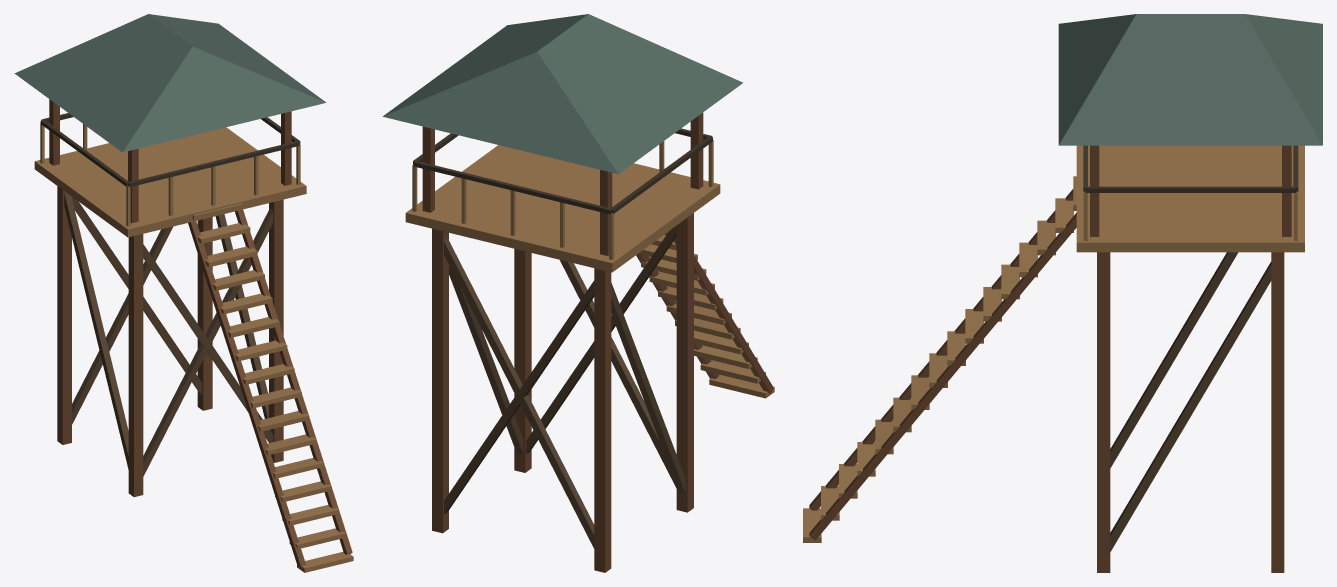
The model's file is Building_Landmark_Watchtower_001_LOD1.glb.
3 views of the same model, side by side, from view 1: azimuth 30°, elevation 25°; view 2: azimuth 150°, elevation 25°; view 3: azimuth 270°, elevation 25° (orthographic). The views are drawn at different scales.
Visible parts, largest first — view 1: Building_Landmark_Watchtower_001_LOD1; view 2: Building_Landmark_Watchtower_001_LOD1; view 3: Building_Landmark_Watchtower_001_LOD1.
Part boxes in pixels (bbox=[...]): Building_Landmark_Watchtower_001_LOD1: bbox=[14, 14, 353, 572]; Building_Landmark_Watchtower_001_LOD1: bbox=[383, 14, 774, 572]; Building_Landmark_Watchtower_001_LOD1: bbox=[803, 14, 1322, 572].
Size of the model in its own units: 4.8 by 9.45 by 8.65.
